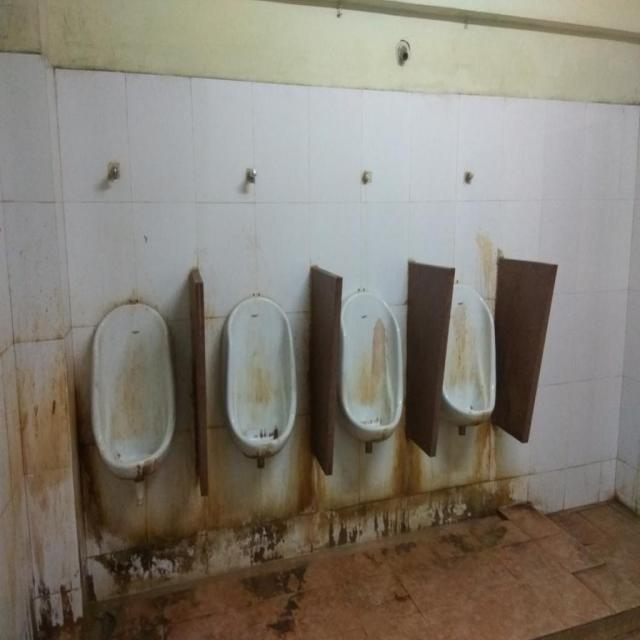dirty_floor: (1, 49, 638, 634), (74, 231, 559, 548), (71, 496, 638, 638), (489, 252, 558, 443), (403, 258, 455, 457)
